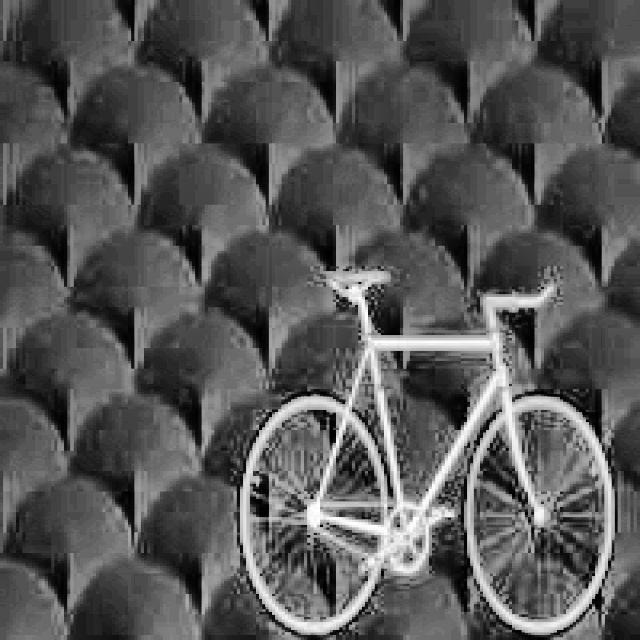bike: (215, 261, 628, 640)
